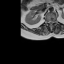CCS_stenosis: (50, 19, 52, 26)
LFS_normal: (53, 20, 55, 24)
LLS_normal: (52, 19, 53, 24)
RFS_normal: (46, 20, 48, 24)
RLS_normal: (48, 19, 50, 25)
